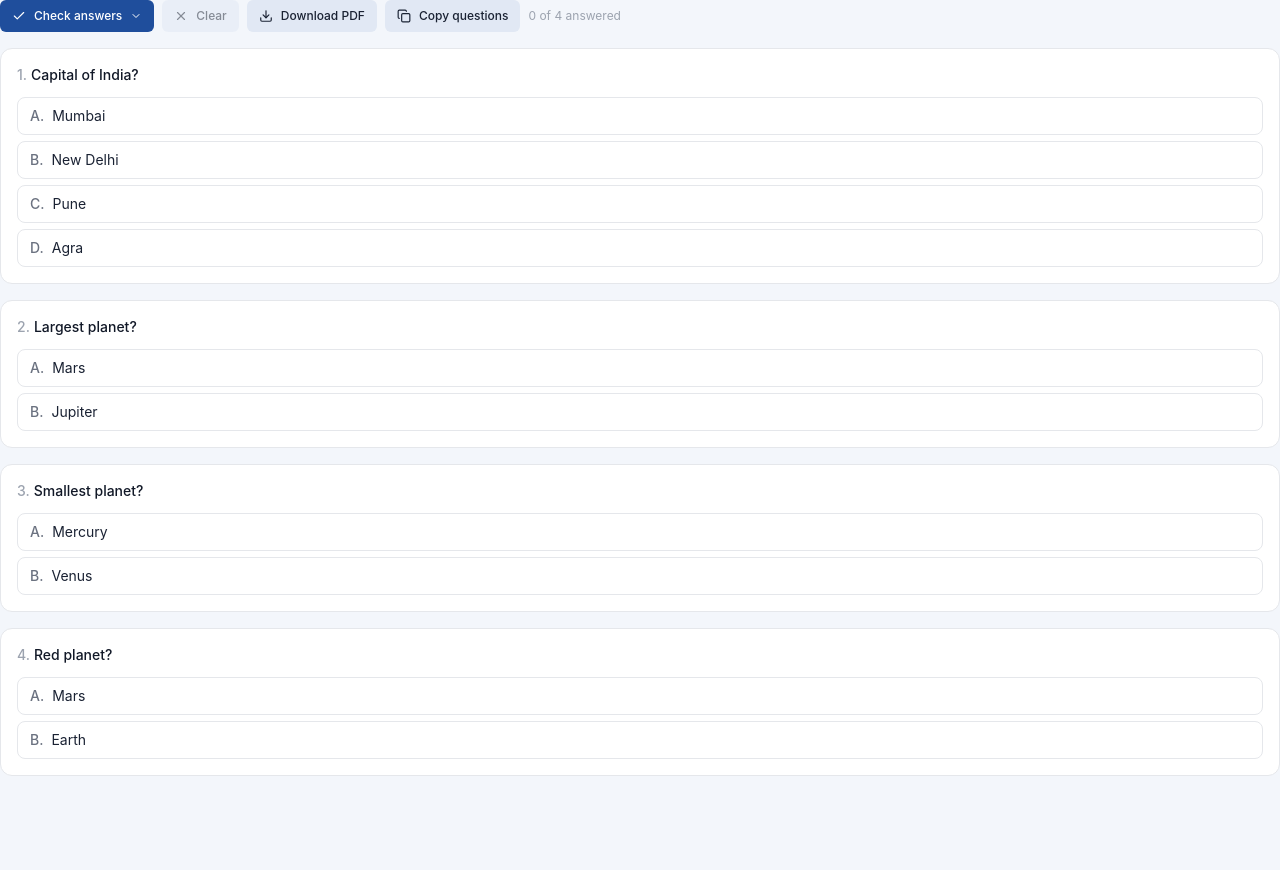
Test case: Check answers › Clear starts over
The width and height of the screenshot is (1280, 870).
Step 1. Click the radio button labelled "B. New Delhi" → x=85, y=160, box [17,141,1263,179]
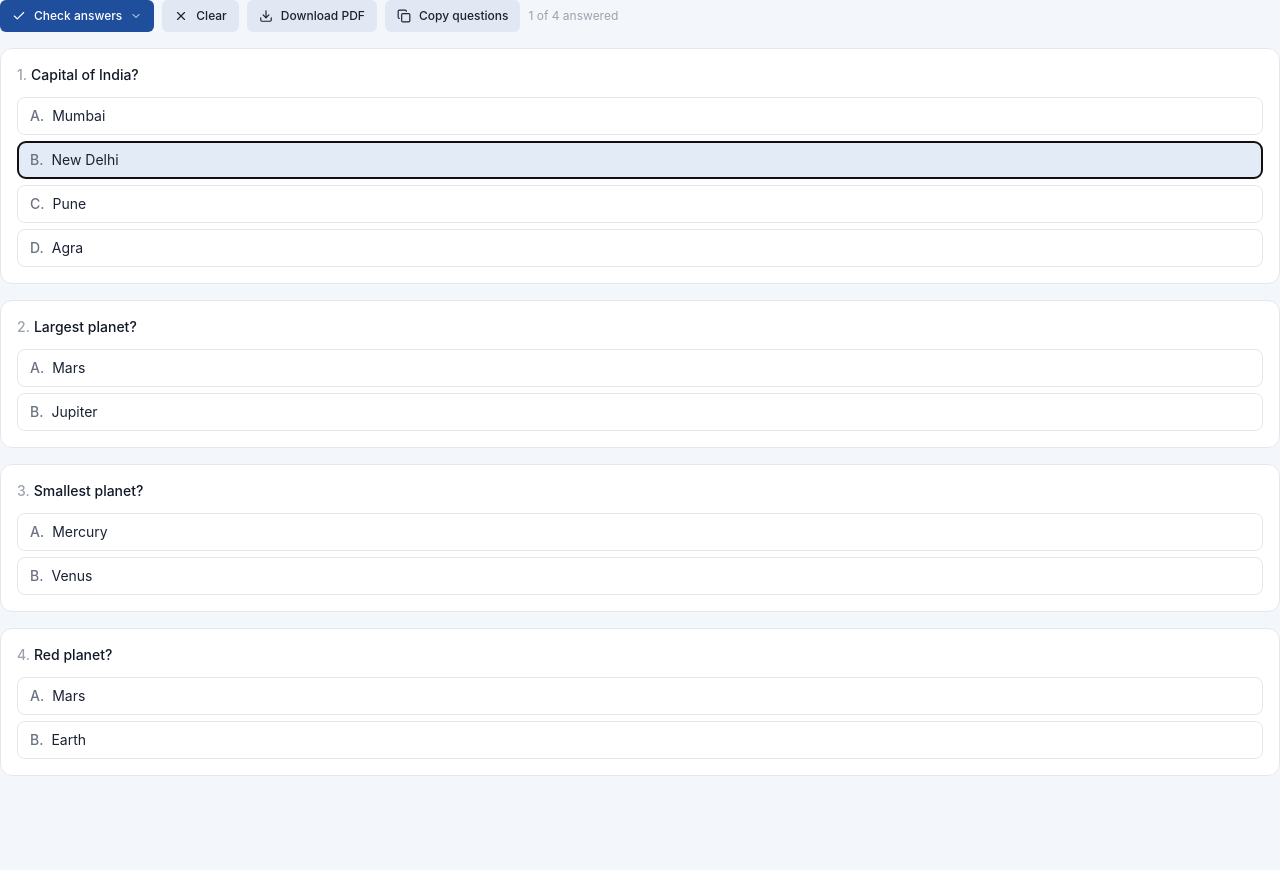
Step 2. Click the button "Check answers" → x=77, y=16, box [0,0,154,32]
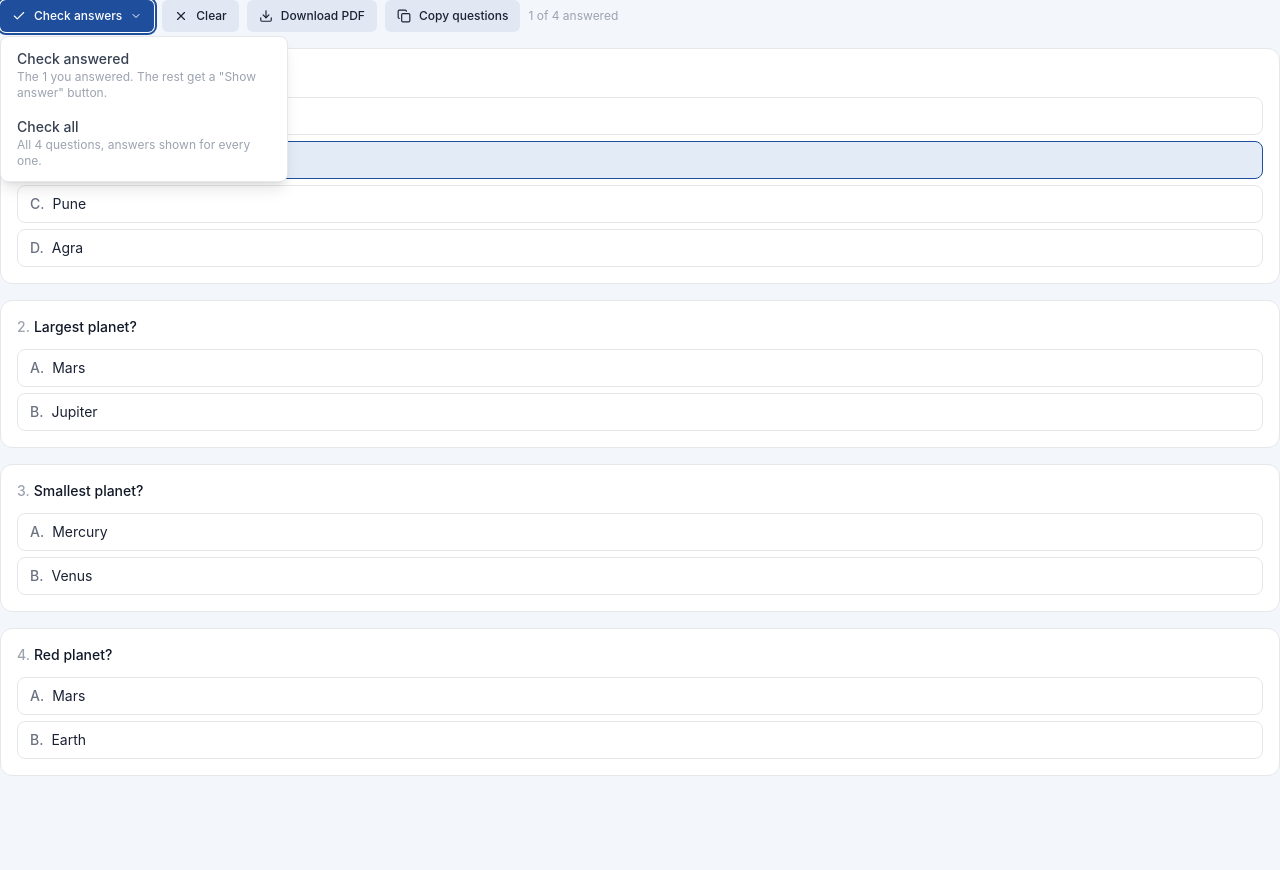
Step 3. Click the menu item "Check all All 4 questions, answers shown for every one." → x=144, y=143, box [1,109,287,177]
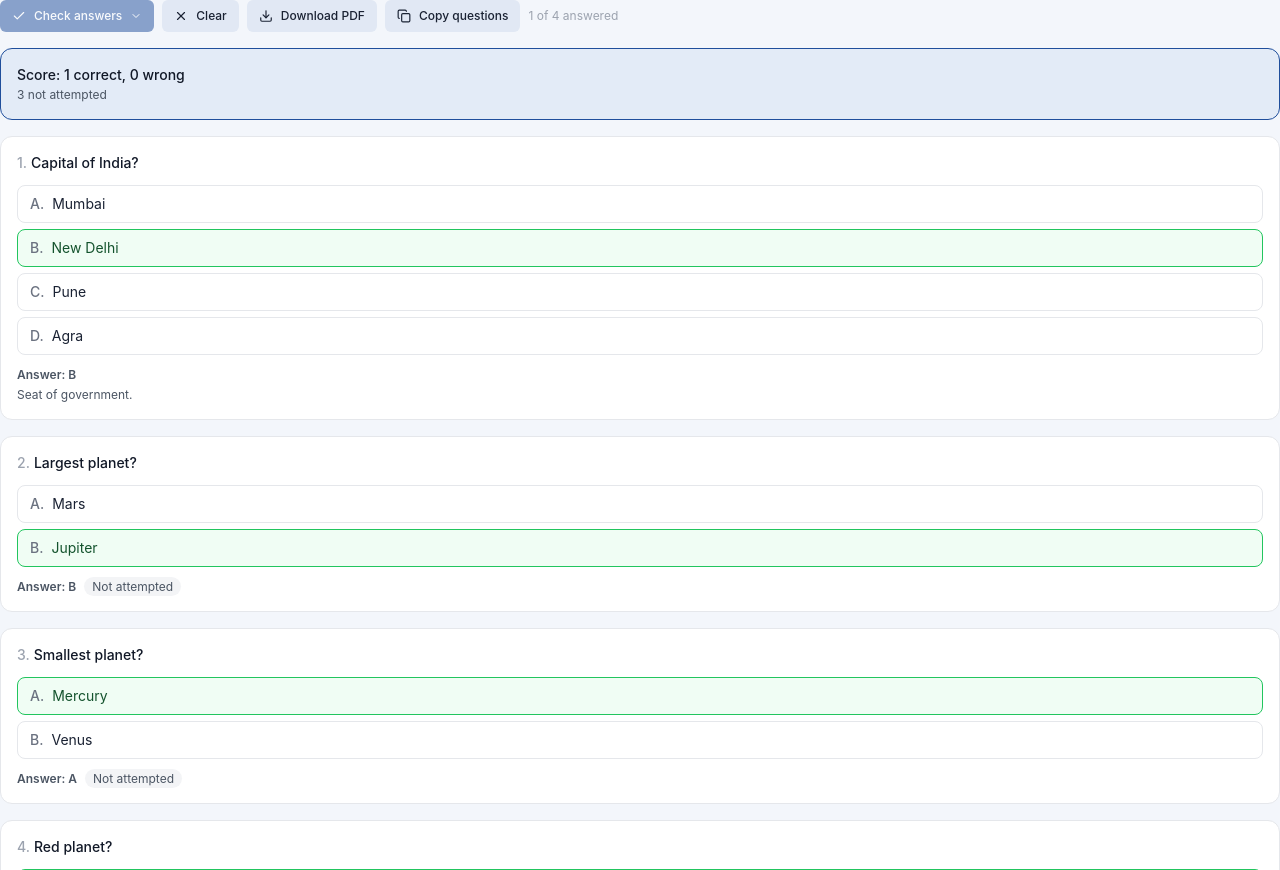
Step 4. Click the button "Clear" → x=201, y=16, box [162,0,239,32]
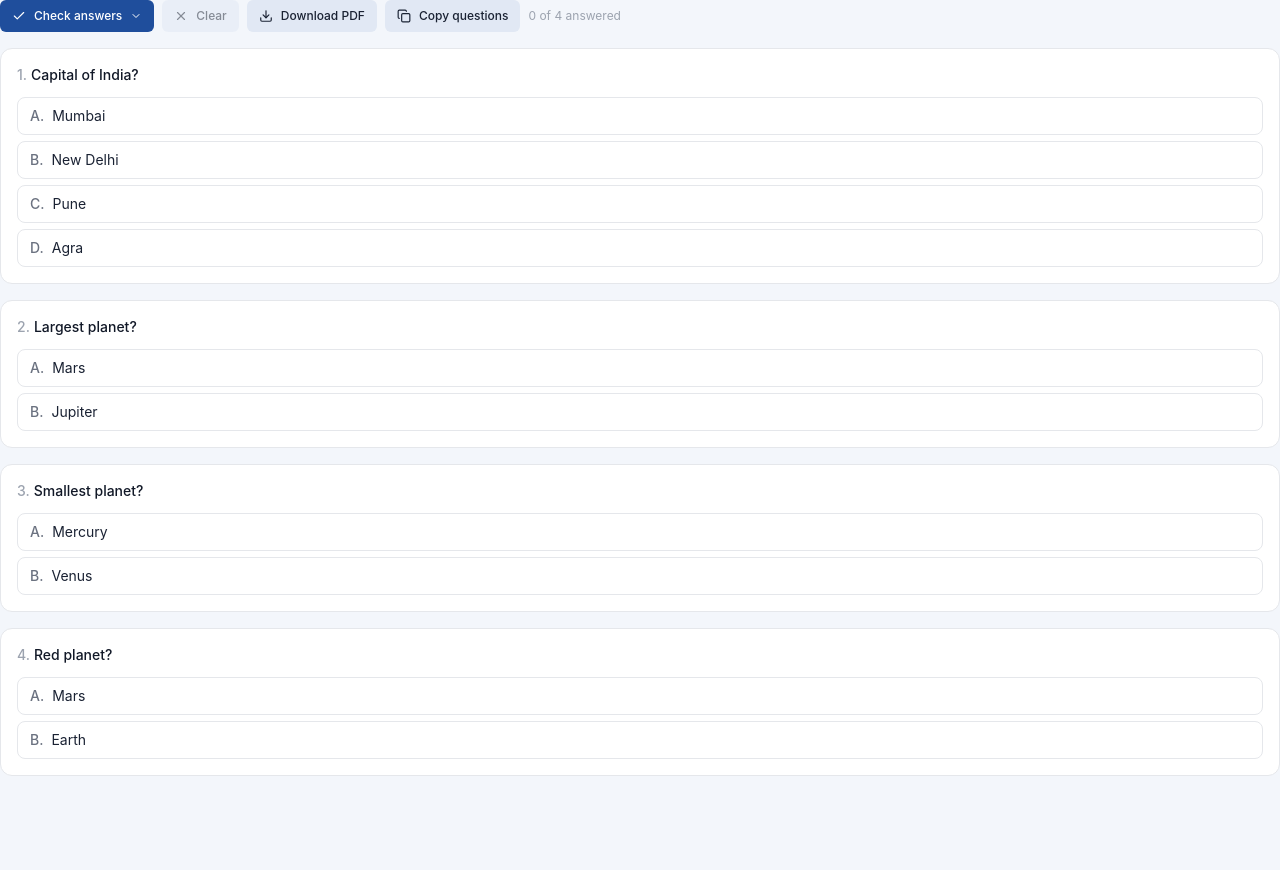
Result: the text "Score:" is gone
Result: the text "Answer: " is gone
